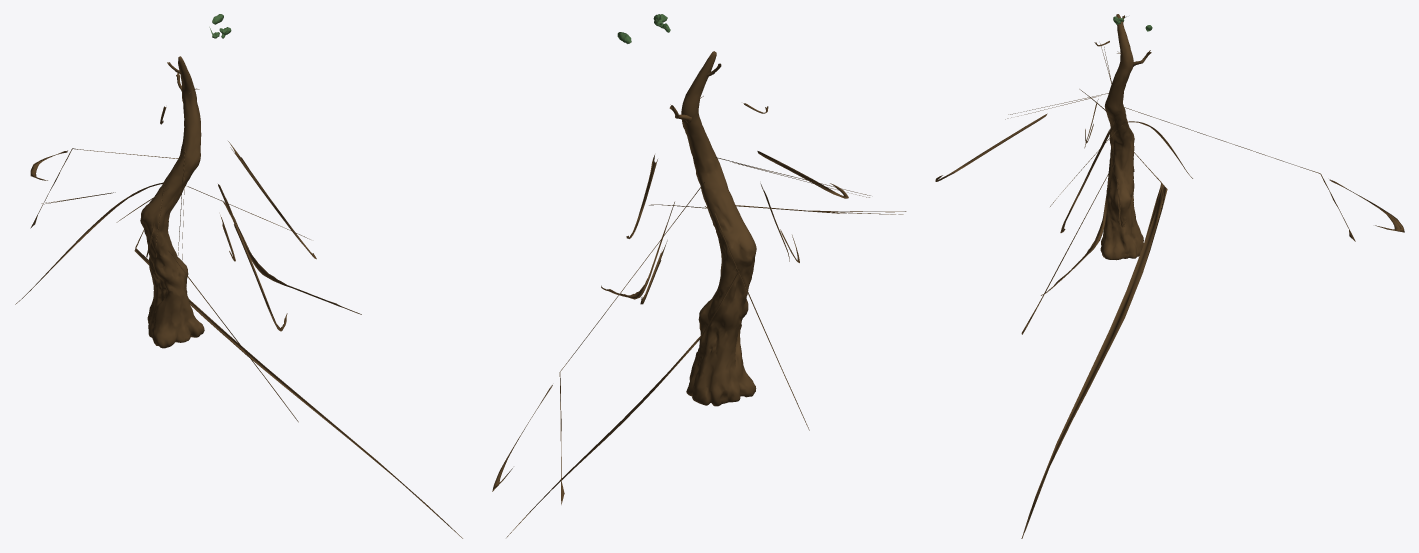
Rendered from tree_2.glb.
3 views of the same model, side by side, from view 1: azimuth 30°, elevation 25°; view 2: azimuth 150°, elevation 25°; view 3: azimuth 270°, elevation 25° (orthographic). The views are drawn at different scales.
Visible parts, largest first — view 1: Volume4_copy002; view 2: Volume4_copy002; view 3: Volume4_copy002.
Part boxes in pixels (<box>): Volume4_copy002: <box>15,56,462,538</box>; Volume4_copy002: <box>492,51,906,537</box>; Volume4_copy002: <box>935,14,1404,538</box>.
Bounding box in the file's own units: 2.85 × 3.75 × 3.58.
